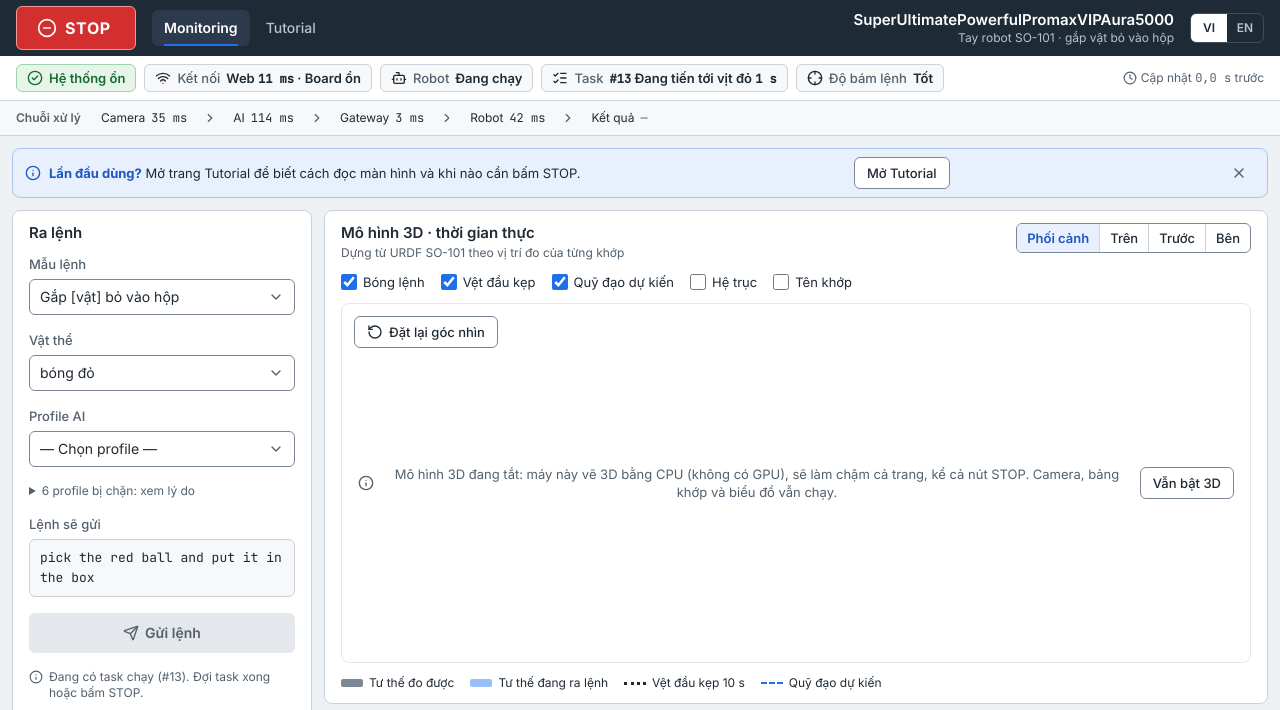
App › STOP is the first control and works by keyboard on both tabs; "Đã dừng" only after ACK
Later steps or results of the test are not shown.
Press Tab
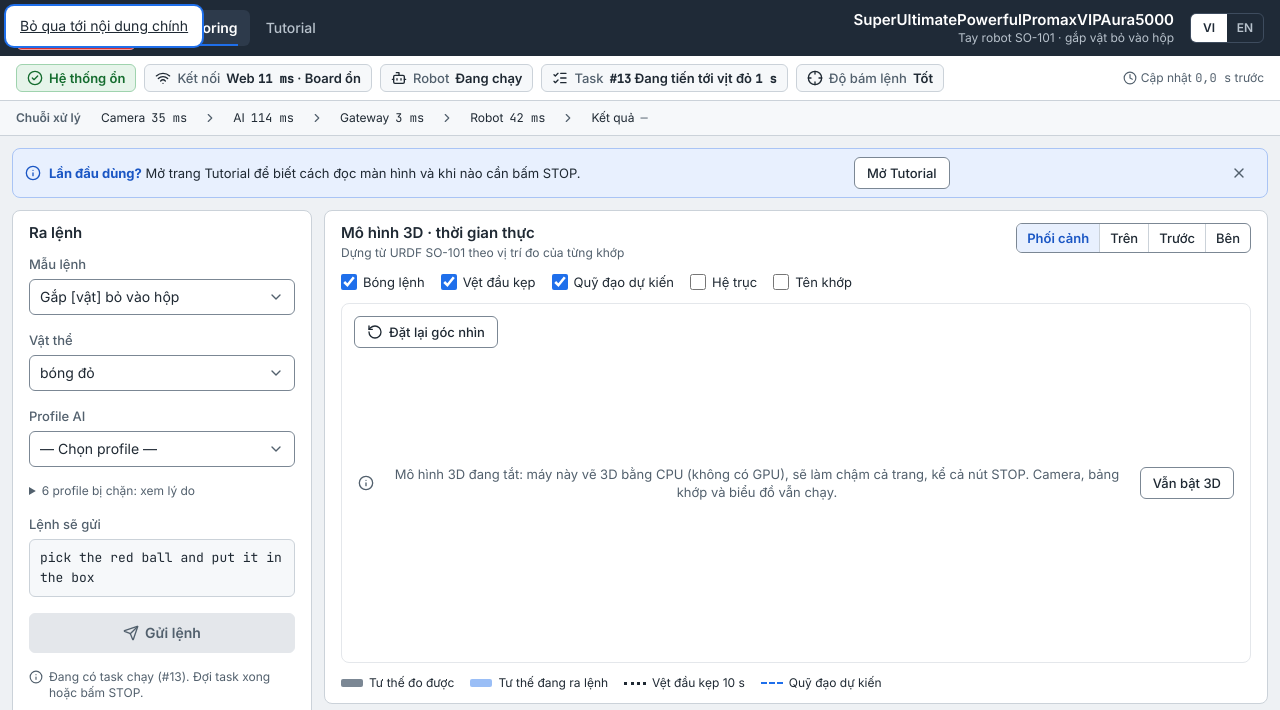
Press Tab
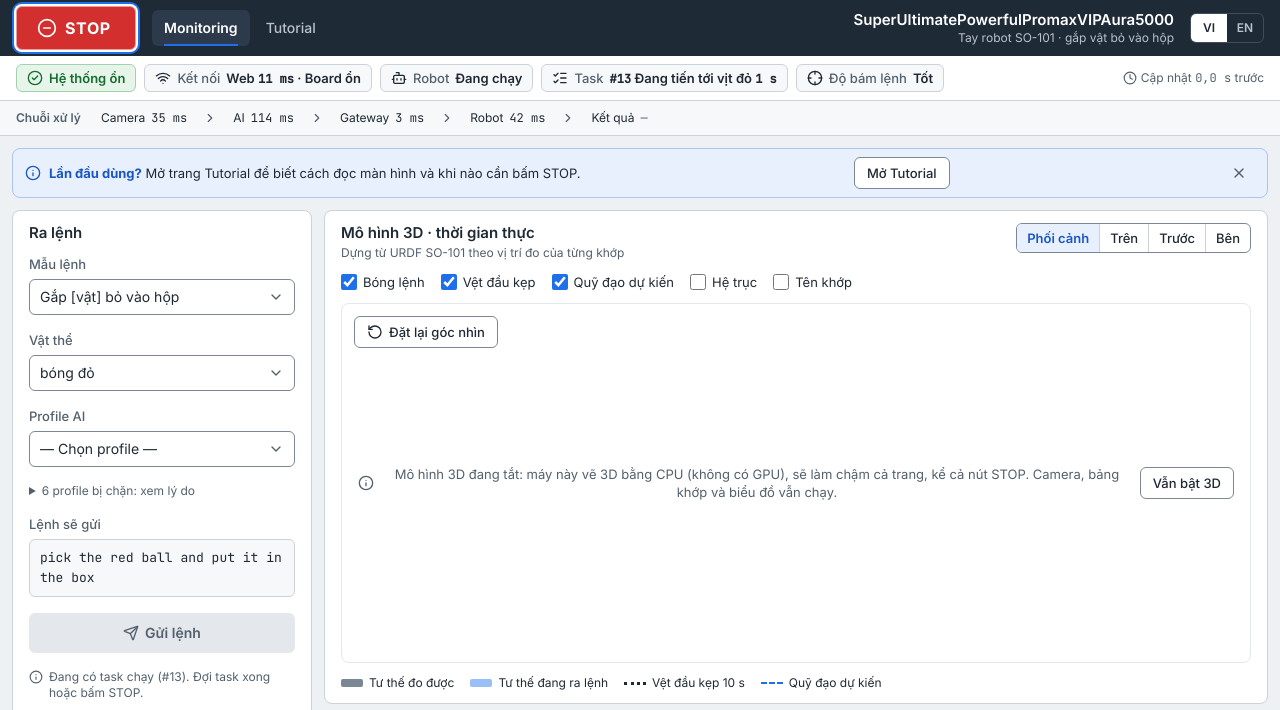
Click the tab "Tutorial" at [291, 28], box [254,10,328,46]
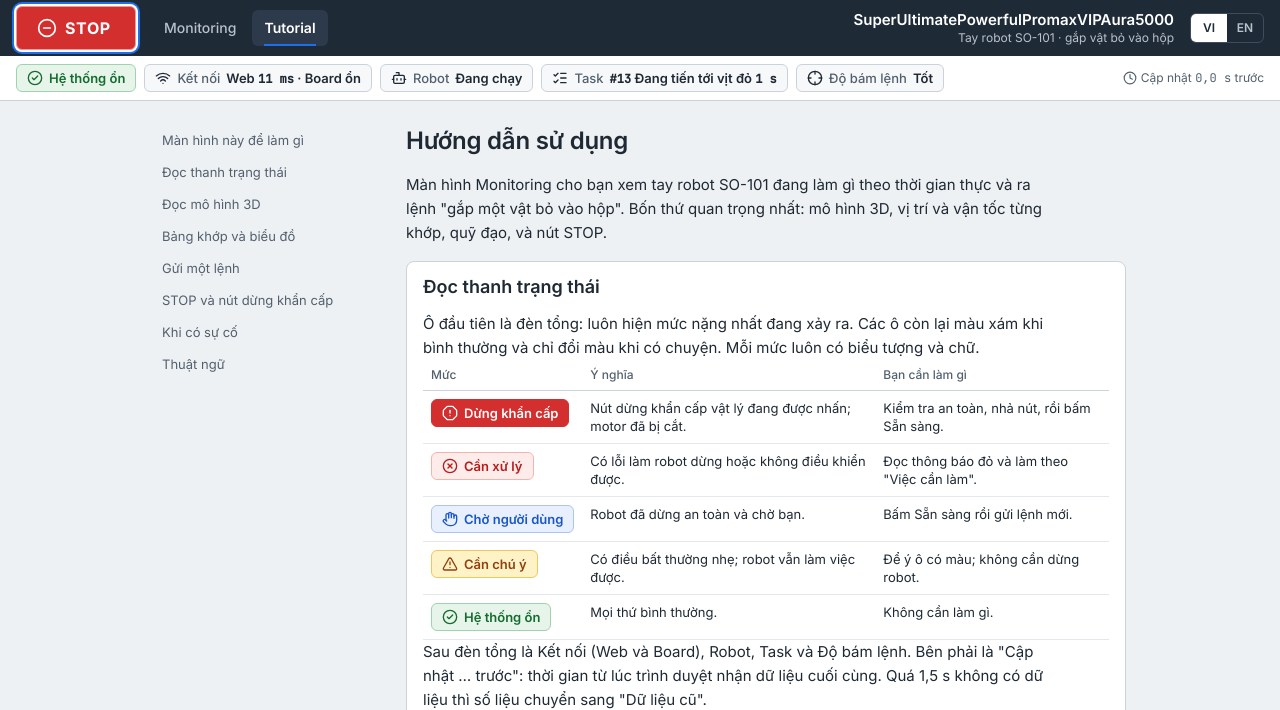
Now the heading "Hướng dẫn sử dụng" is shown, box [406,126,628,155]
Press Enter
Wait 400 ms
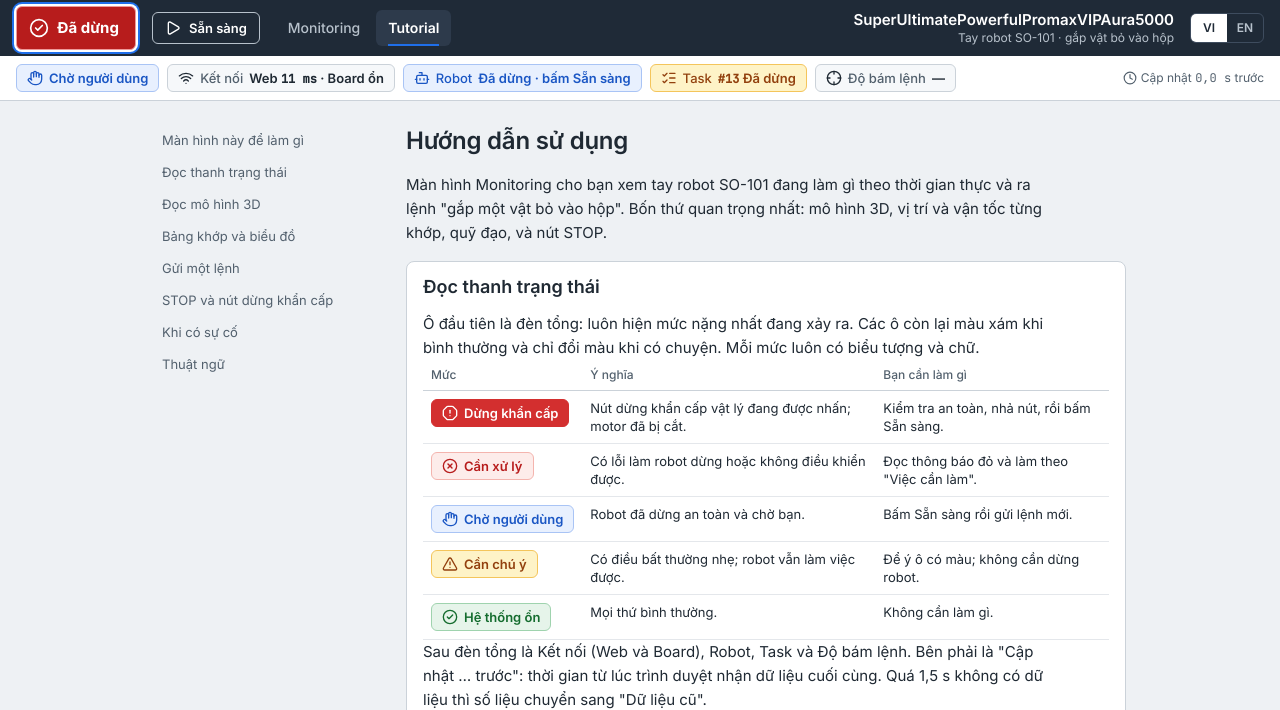
Now the button "Đã dừng" is shown, box [16,6,136,50]
Click the tab "Monitoring" at [324, 28], box [276,10,372,46]
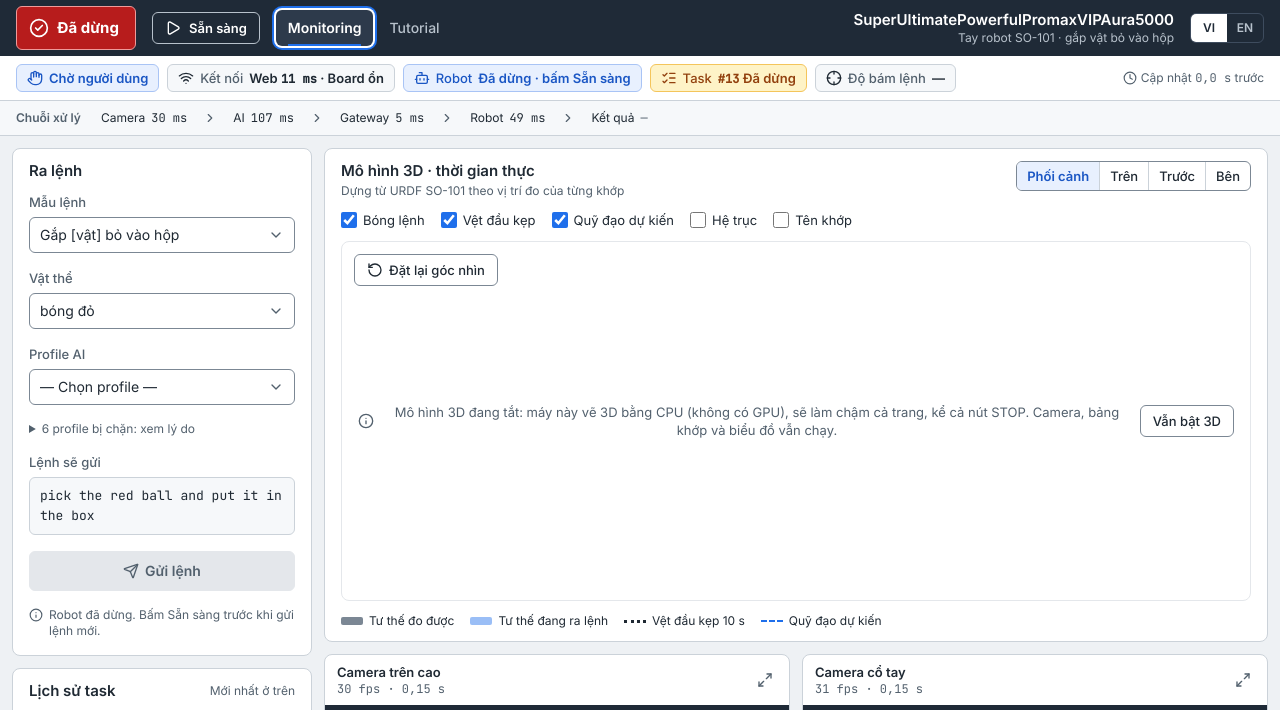
Now the element with test id "lamp" reads "Chờ người dùng", box [49,70,148,86]
Now the element with test id "cmd-reason" shows "Bấm Sẵn sàng", box [49,607,294,638]
Robot never restarts by itself: Ready is required, then a new command.
Click the button "Sẵn sàng" at [206, 28], box [152,12,260,44]
Wait 400 ms
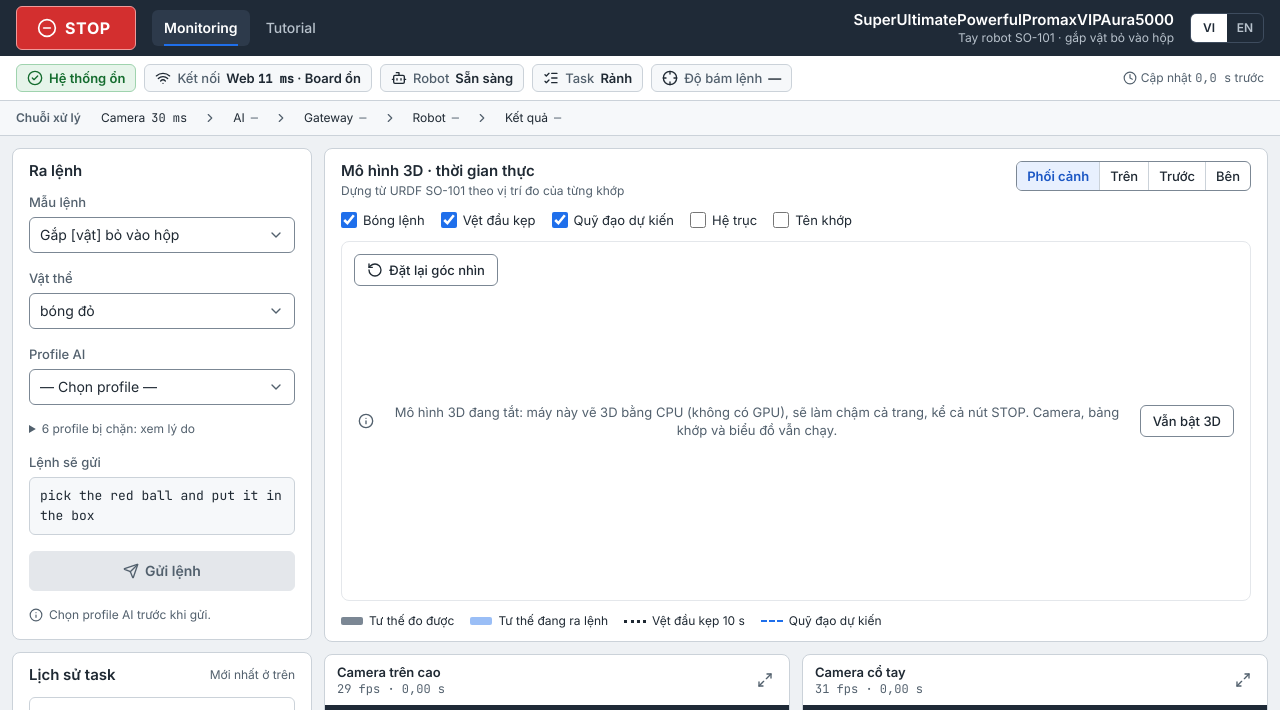
Now the element with test id "lamp" reads "Hệ thống ổn", box [49,70,125,86]
Now the element with test id "cmd-reason" reads "Chọn profile AI trước khi gửi.", box [49,607,211,622]
